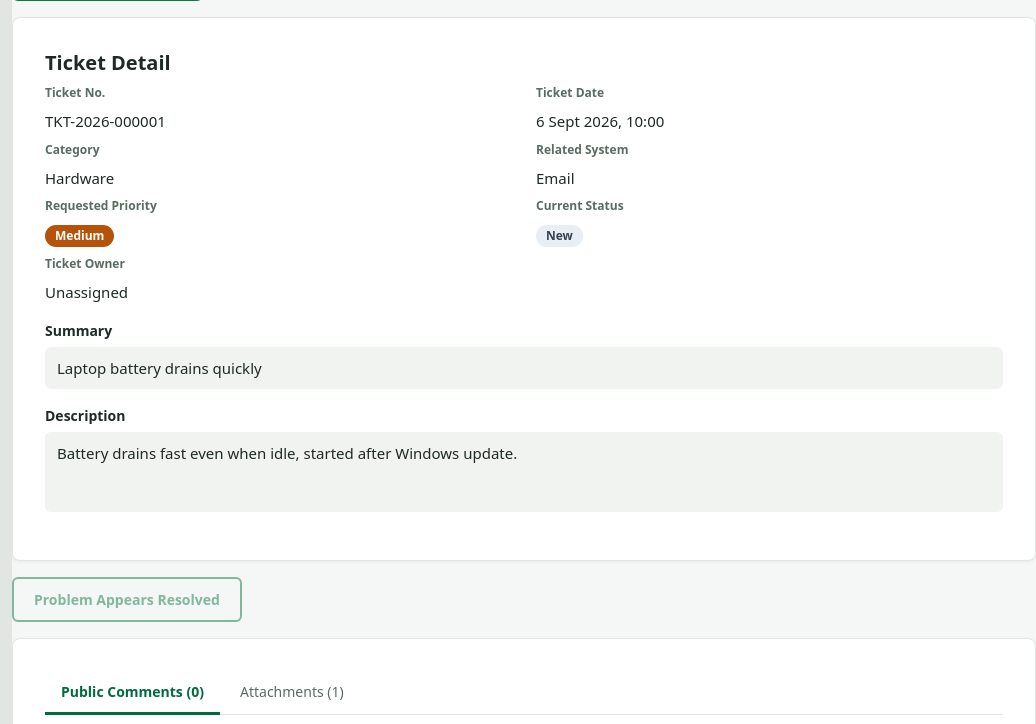
it: TicketDetail › UI-11: header fields are rendered as read-only (AC-21)
Check: the text "TKT-2026-000001" is shown, box [45,111,166,131]
Check: the text "Laptop battery drains quickly" is shown, box [45,346,1003,389]
# Navigate to the Attachments tab to verify the attachment
Click the tab "Attachments (1)". click: (292, 693)
box: [224,671,360,715]
(page scrolled)
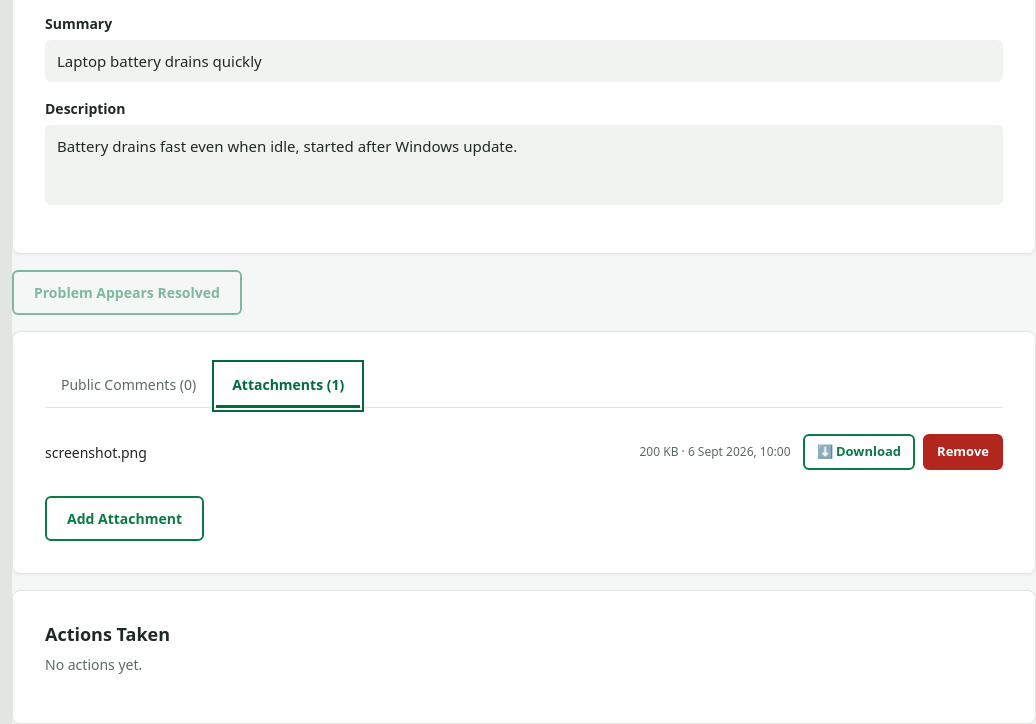
Check: the text "screenshot.png" is shown, box [45,442,147,462]
